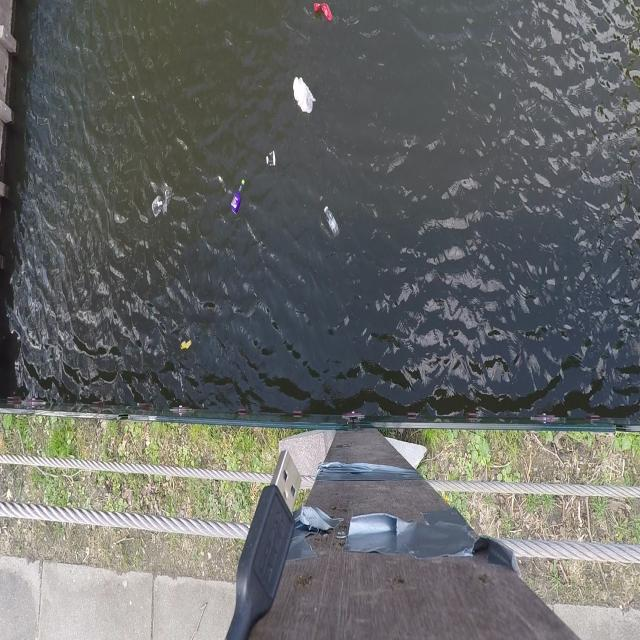Bouteille plastique: (322, 199, 344, 243), (228, 173, 250, 216)
Non plastique: (264, 149, 280, 171)
Sac plastique: (287, 72, 319, 117), (148, 183, 175, 223)
